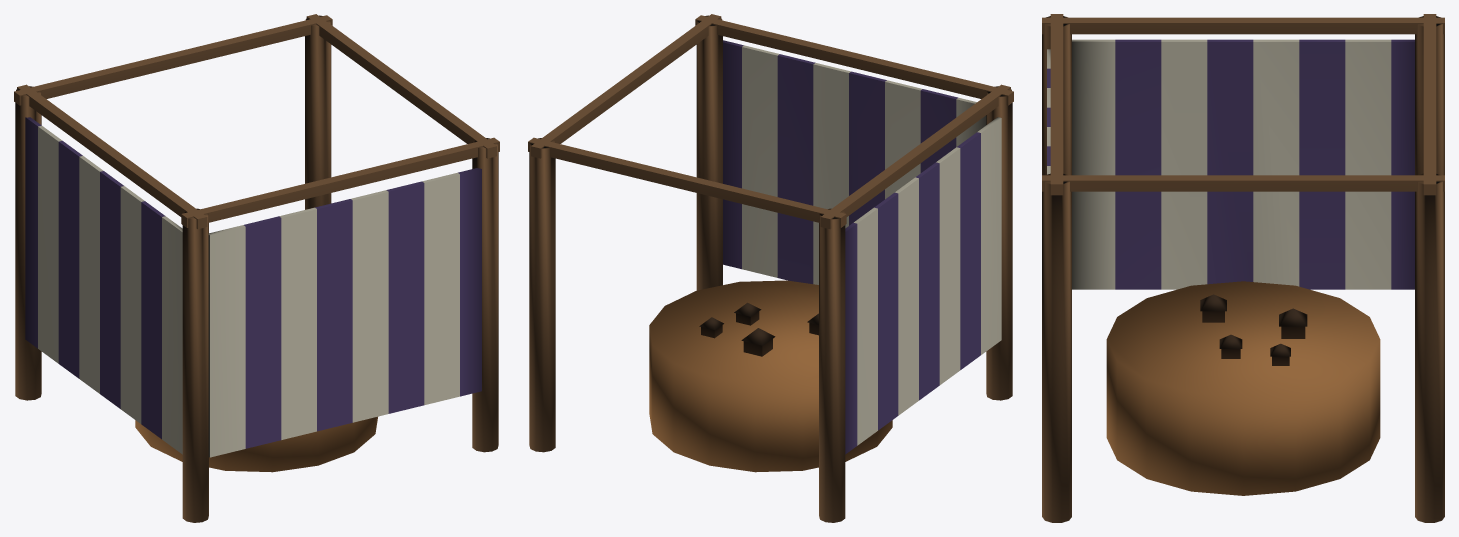
The model's file is house_development.glb.
3 renders of one model, left to right at view 1: azimuth 30°, elevation 25°; view 2: azimuth 150°, elevation 25°; view 3: azimuth 270°, elevation 25°, orthographic. The views are drawn at different scales.
Visible parts, largest first — view 1: house_development; view 2: house_development; view 3: house_development.
Part boxes in pixels (x1,y1,x2,y2): house_development: (14,14,499,522); house_development: (528,14,1013,522); house_development: (1042,14,1444,522).
Size of the model in its own units: 1.62 by 1.5 by 1.62.
